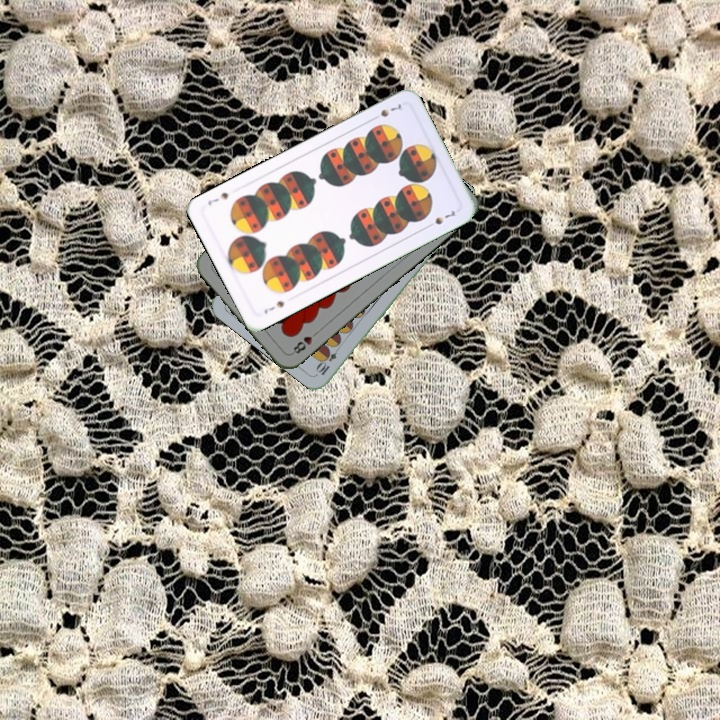E10: (313, 341, 343, 378)
H8: (288, 326, 321, 357)
S7: (368, 100, 404, 123), (260, 297, 287, 317)
